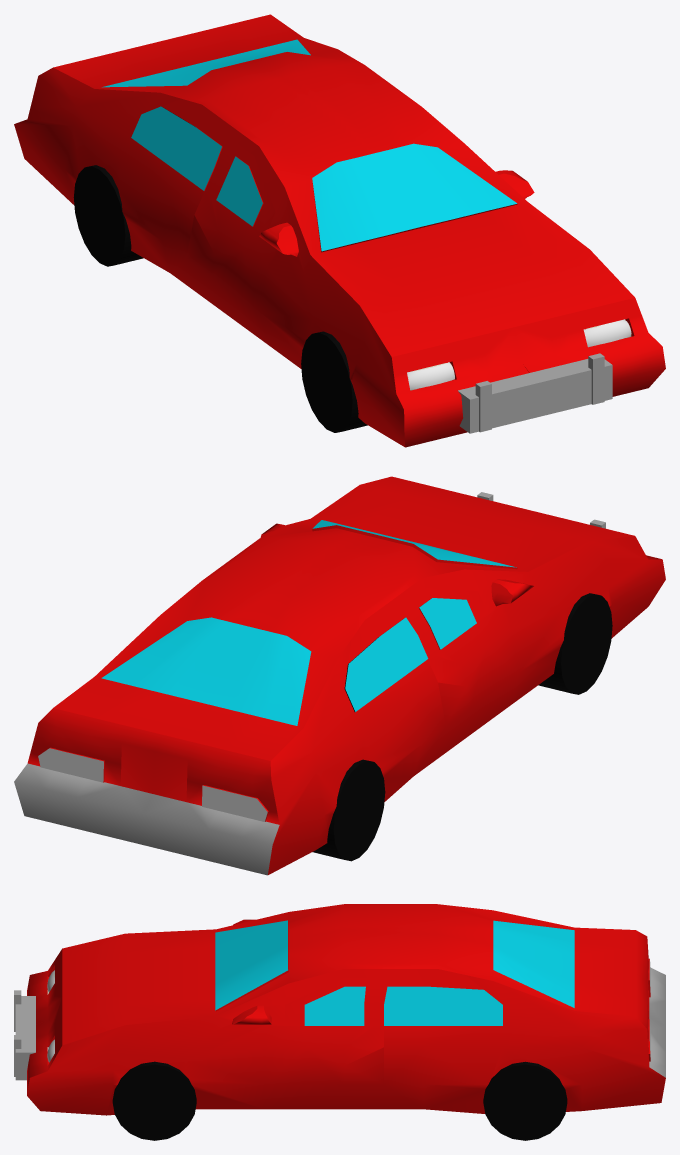
The model's file is red car.fbx.
3 views of the same model, one above another, from view 1: azimuth 30°, elevation 25°; view 2: azimuth 150°, elevation 25°; view 3: azimuth 270°, elevation 25° (orthographic). The views are drawn at different scales.
Parts seen in each view (by area): view 1: polySurface8; view 2: polySurface8; view 3: polySurface8.
Boxes of the visible parts, x1,y1,x2,y2 form: polySurface8: (14, 14, 665, 447); polySurface8: (14, 476, 665, 875); polySurface8: (14, 904, 665, 1140).
Bounding box in the file's own units: 1.74 × 1.23 × 4.59.
